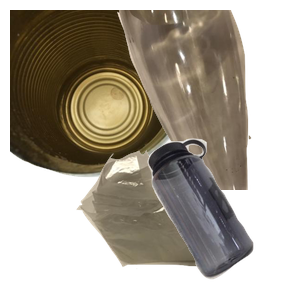glass: (115, 10, 300, 190)
metal: (10, 10, 200, 180)
plastic: (145, 136, 300, 300)
trash: (74, 148, 273, 300)
